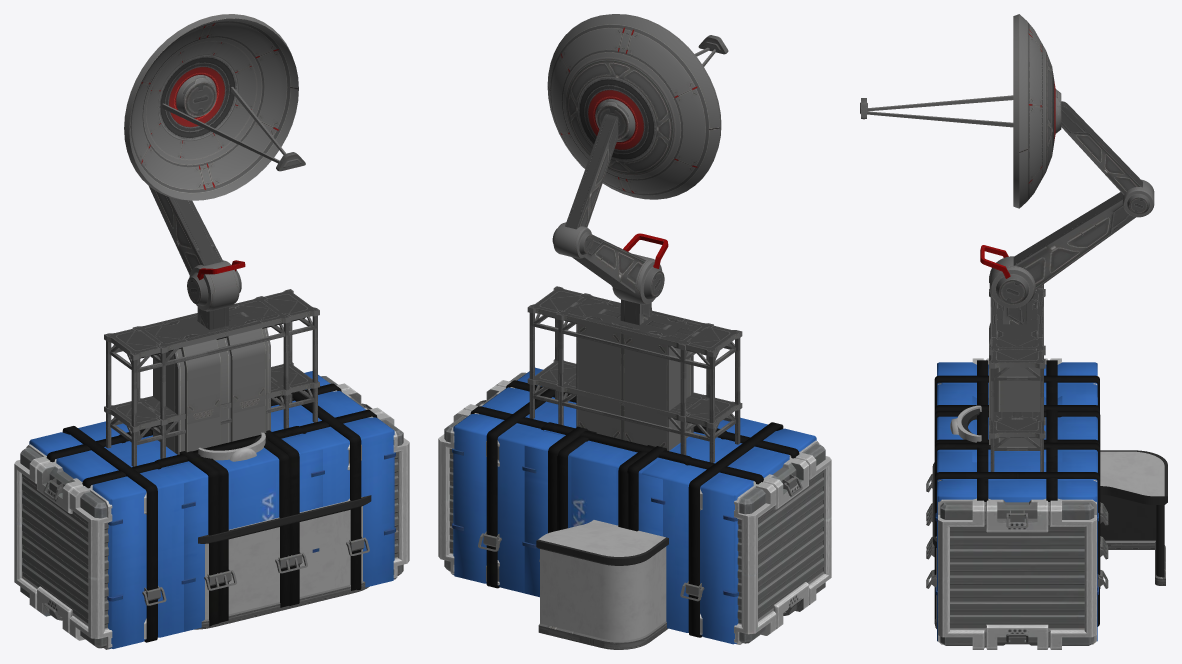
Rendered from props.glb.
3 renders of one model, left to right at view 1: azimuth 30°, elevation 25°; view 2: azimuth 150°, elevation 25°; view 3: azimuth 270°, elevation 25°, orthographic. The views are drawn at different scales.
Parts seen in each view (by area): view 1: Prop_Crate_Tarp_Large, Prop_SatelliteDish, Prop_Crate_Large, Prop_Crate_Tarp, Prop_Desk_L, Prop_Locker, Prop_Shelves_WideTall, Prop_Shelves_ThinTall, Prop_Chair; view 2: Prop_Crate_Tarp_Large, Prop_SatelliteDish, Prop_Crate_Large, Prop_Desk_L, Prop_Crate_Tarp, Prop_Shelves_WideTall, Prop_Locker, Prop_Shelves_ThinTall; view 3: Prop_Crate_Large, Prop_SatelliteDish, Prop_Crate_Tarp_Large, Prop_Desk_L, Prop_Shelves_WideTall, Prop_Crate_Tarp, Prop_Locker, Prop_Shelves_ThinTall, Prop_Chair.
Part boxes in pixels (left/top/right/bottom): Prop_Crate_Tarp_Large: left=29, top=371, right=395, bottom=648; Prop_SatelliteDish: left=124, top=14, right=305, bottom=329; Prop_Crate_Large: left=14, top=376, right=409, bottom=649; Prop_Crate_Tarp: left=119, top=426, right=324, bottom=631; Prop_Desk_L: left=194, top=495, right=371, bottom=629; Prop_Locker: left=153, top=328, right=270, bottom=454; Prop_Shelves_WideTall: left=104, top=289, right=319, bottom=466; Prop_Shelves_ThinTall: left=132, top=296, right=291, bottom=458; Prop_Chair: left=198, top=432, right=265, bottom=461; Prop_Crate_Tarp_Large: left=452, top=367, right=816, bottom=644; Prop_SatelliteDish: left=547, top=14, right=728, bottom=325; Prop_Crate_Large: left=438, top=372, right=831, bottom=644; Prop_Desk_L: left=536, top=520, right=668, bottom=649; Prop_Crate_Tarp: left=522, top=422, right=727, bottom=597; Prop_Shelves_WideTall: left=527, top=286, right=742, bottom=462; Prop_Locker: left=576, top=323, right=693, bottom=450; Prop_Shelves_ThinTall: left=556, top=293, right=713, bottom=455; Prop_Crate_Large: left=938, top=358, right=1096, bottom=649; Prop_SatelliteDish: left=860, top=14, right=1154, bottom=324; Prop_Crate_Tarp_Large: left=926, top=360, right=1108, bottom=641; Prop_Desk_L: left=932, top=450, right=1167, bottom=628; Prop_Shelves_WideTall: left=989, top=275, right=1045, bottom=471; Prop_Crate_Tarp: left=926, top=393, right=1108, bottom=588; Prop_Locker: left=989, top=323, right=1040, bottom=446; Prop_Shelves_ThinTall: left=989, top=289, right=1045, bottom=425; Prop_Chair: left=950, top=405, right=981, bottom=442.
Bounding box in the file's own units: 3.47 × 6.02 × 2.91.
8 materials, 8 textured.
